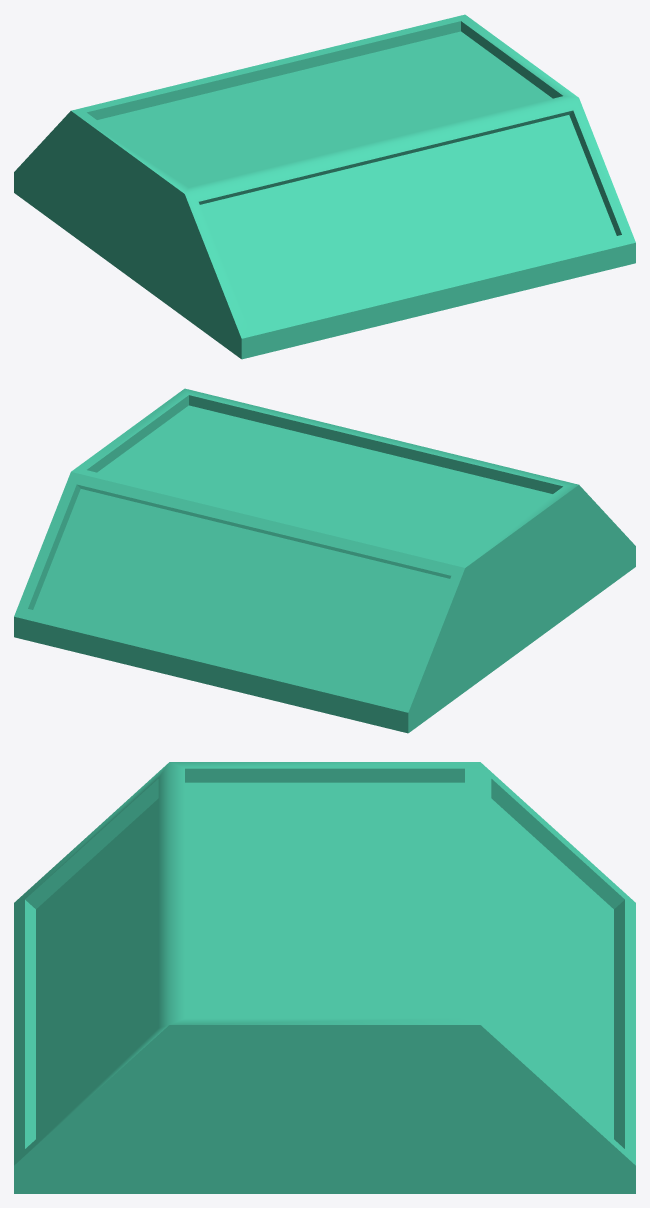
File: Floor_2x2m_C.FBX
3 views of the same model, one above another, from view 1: azimuth 30°, elevation 25°; view 2: azimuth 150°, elevation 25°; view 3: azimuth 270°, elevation 25° (orthographic). The views are drawn at different scales.
Parts seen in each view (by area): view 1: Floor_2x2m_C; view 2: Floor_2x2m_C; view 3: Floor_2x2m_C.
Part boxes in pixels (box(x1,y1,x2,y2)): Floor_2x2m_C: box(14, 14, 635, 359); Floor_2x2m_C: box(14, 388, 635, 733); Floor_2x2m_C: box(14, 762, 635, 1193).
Bounding box in the file's own units: 200 × 60 × 200.
